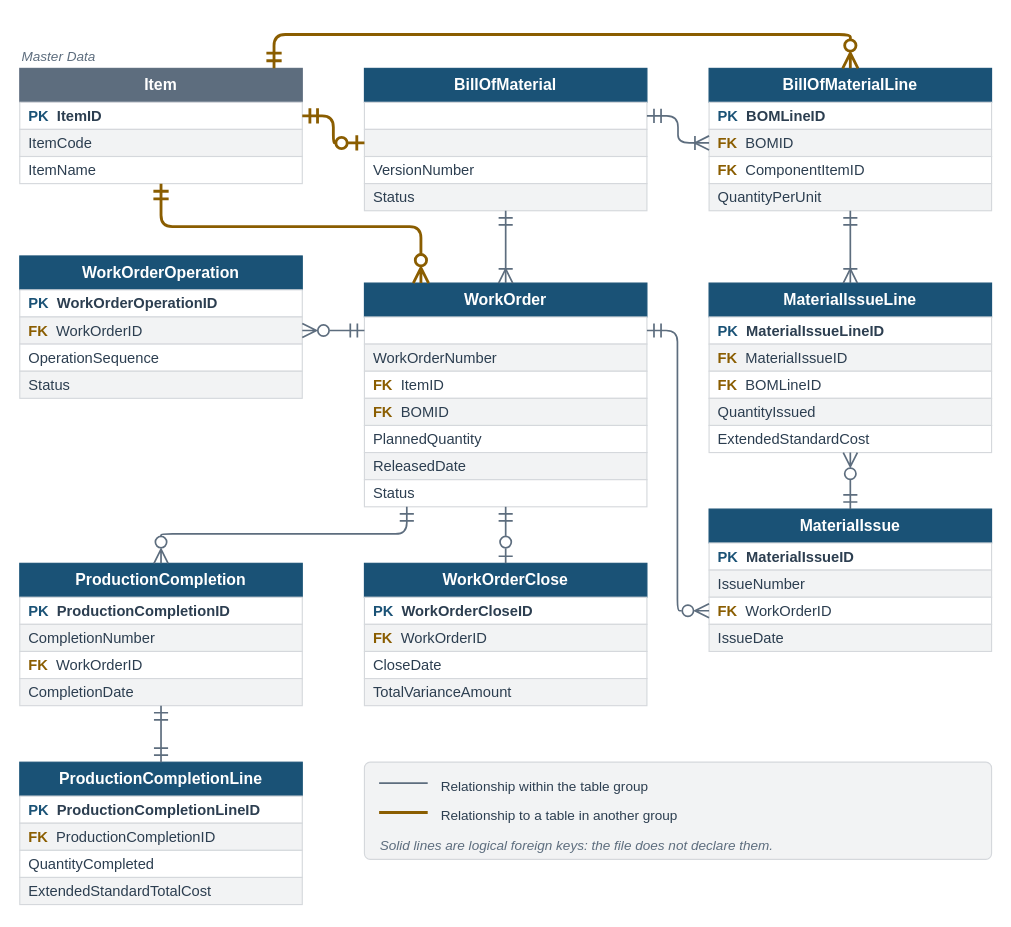
Some shapes in this 1011 by 927 pixel diagram are drawn without their labels. The shapes that lost their labels are listed below. From the top down, each one's box as (x1, y1, x2, y2) in pixels, then its label:
(363, 101, 647, 129): PK BOMID
(363, 128, 647, 157): FK ParentItemID
(363, 316, 647, 344): PK WorkOrderID
